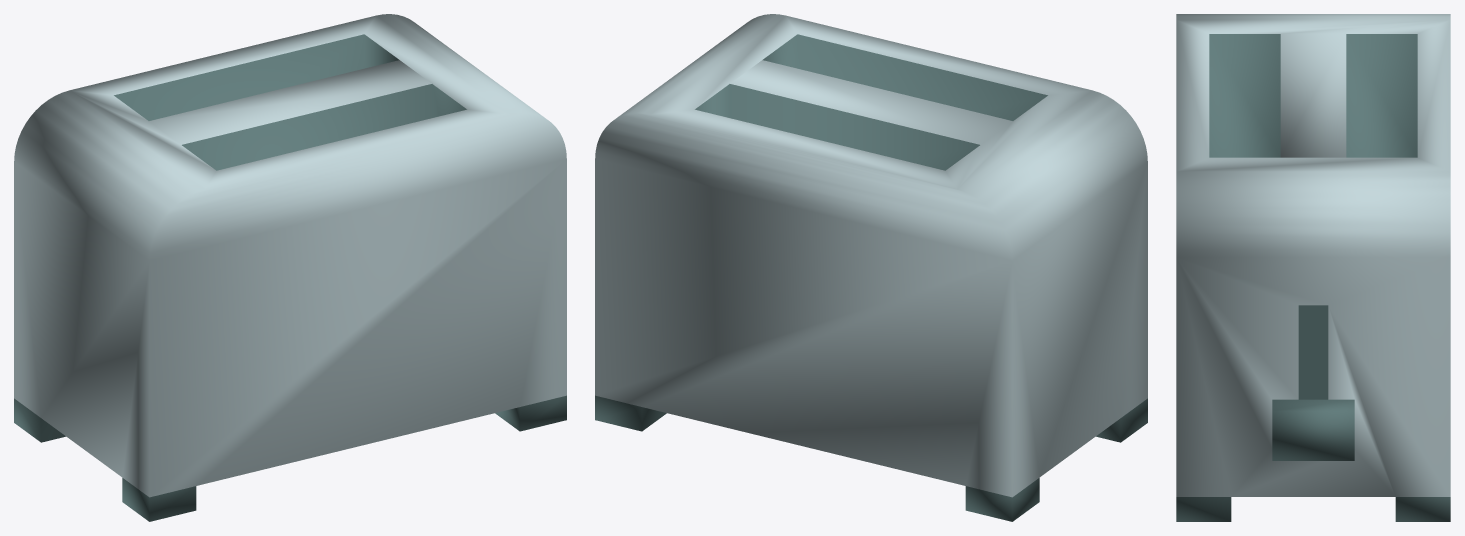
Rendered from Toaster.glb.
The picture shows the model from 3 angles, left to right: view 1: azimuth 30°, elevation 25°; view 2: azimuth 150°, elevation 25°; view 3: azimuth 270°, elevation 25°; orthographic projection.
Parts seen in each view (by area): view 1: toaster; view 2: toaster; view 3: toaster.
Part boxes in pixels (<box>): toaster: <box>14,14,566,521</box>; toaster: <box>595,14,1147,521</box>; toaster: <box>1176,14,1450,521</box>.
Bounding box in the file's own units: 0.188 × 0.13 × 0.1.
